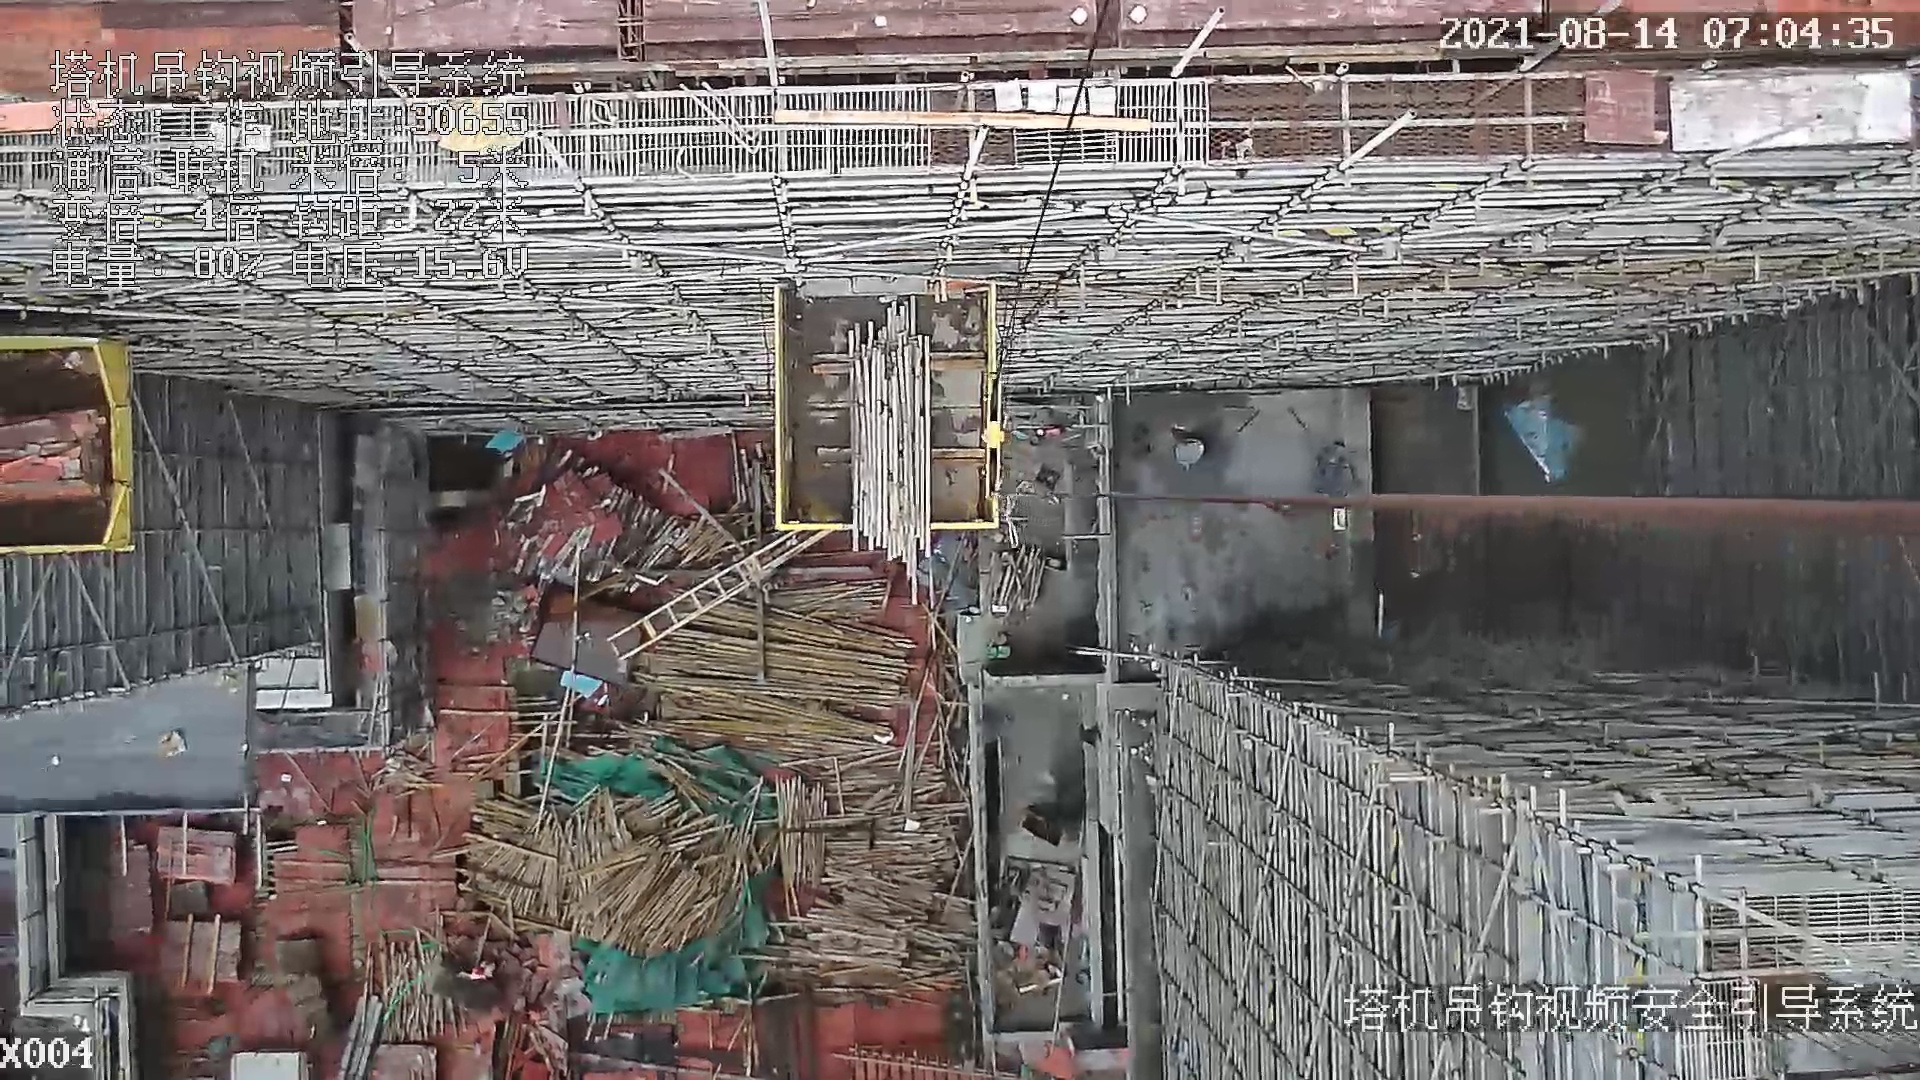hook: (975, 377, 1011, 501)
